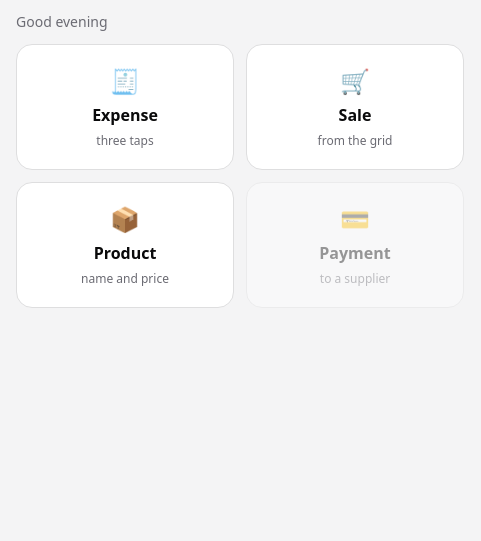
Test case: QuickEntry stage 2 — sale › keeps the entry on screen when the confirm refuses
Step 1. Click the button "🛒 Sale from the grid" → x=355, y=107, box [246, 44, 464, 170]
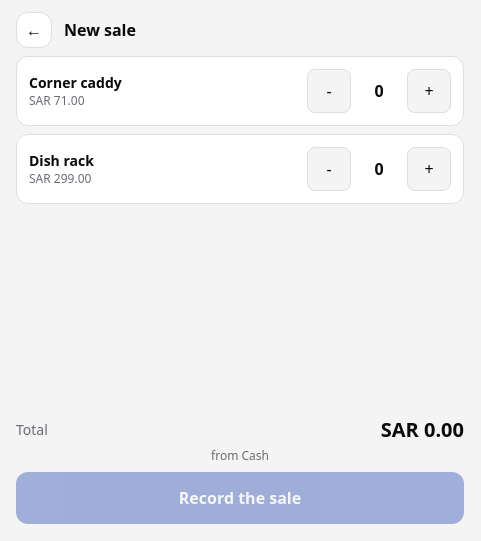
Step 2. Click the button "+" in the row of "Corner caddy" → x=429, y=91, box [407, 69, 451, 113]
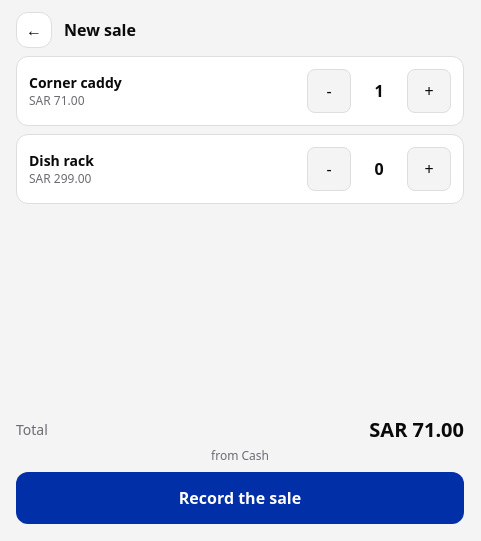
Step 3. Click the button "Record the sale" → x=240, y=498, box [16, 472, 464, 524]
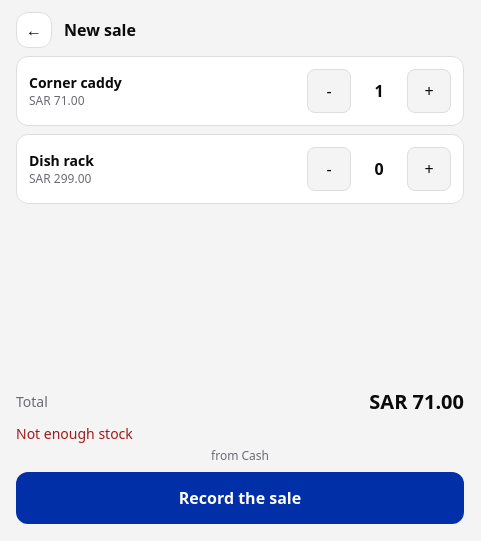
Expected: the button "Record the sale" is shown, [16, 472, 464, 524]
Expected: the text "Not enough stock" is shown, [16, 424, 133, 443]
